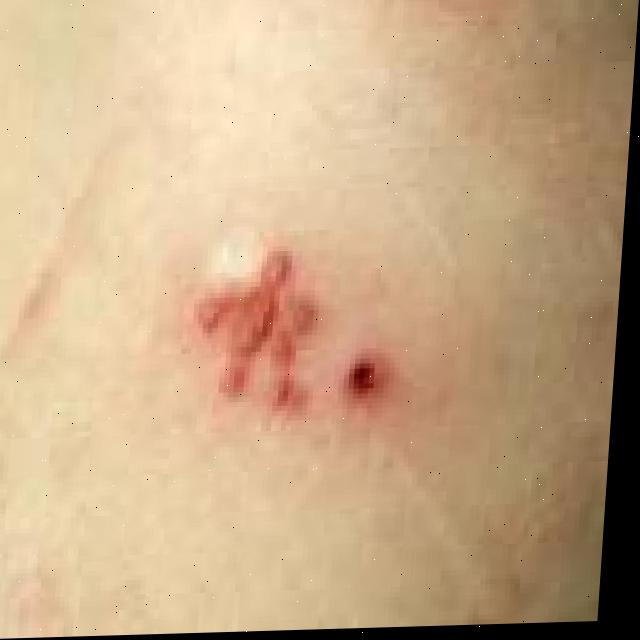Shingles: (192, 244, 401, 419)
